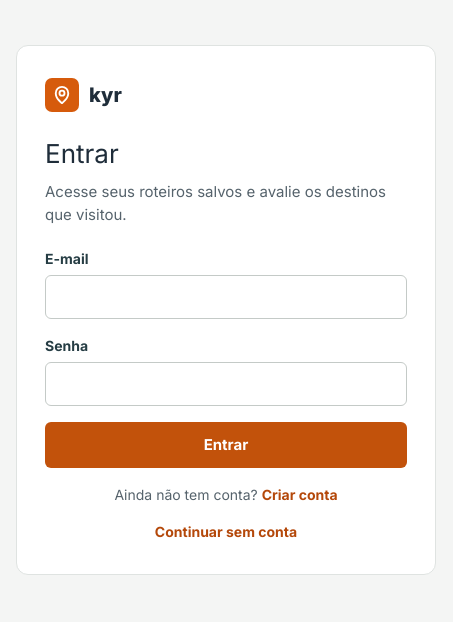
FormularioDeConta › no login, não pede nome e mostra o erro do servidor
Type "ana@exemplo.com" into the field labelled "E-mail" at (226,297), box [45,275,407,319]
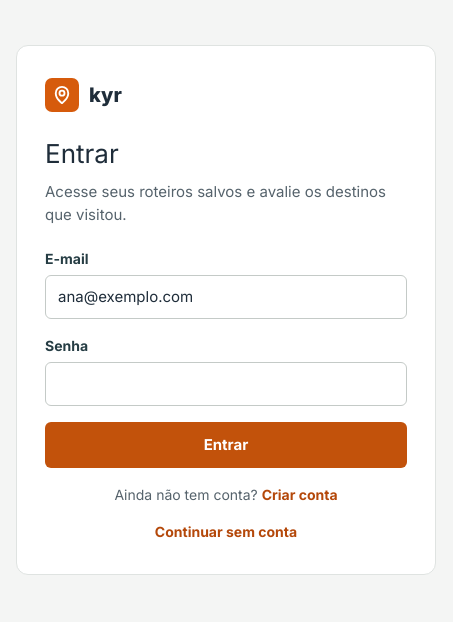
Type "errada" into the password field labelled "Senha" at (226,384), box [45,362,407,406]
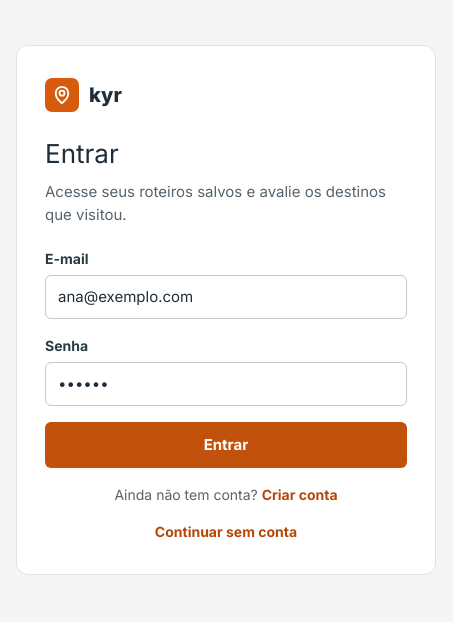
Submit the form "E-mail Senha Entrar", box [45,248,407,468]
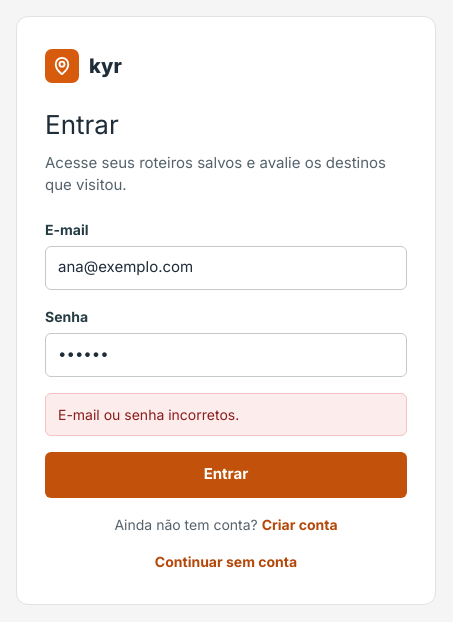
Expected: the button "Entrar" is enabled, [45,452,407,498]
Now the message reads "E-mail ou senha incorretos.", box [58,406,239,422]
